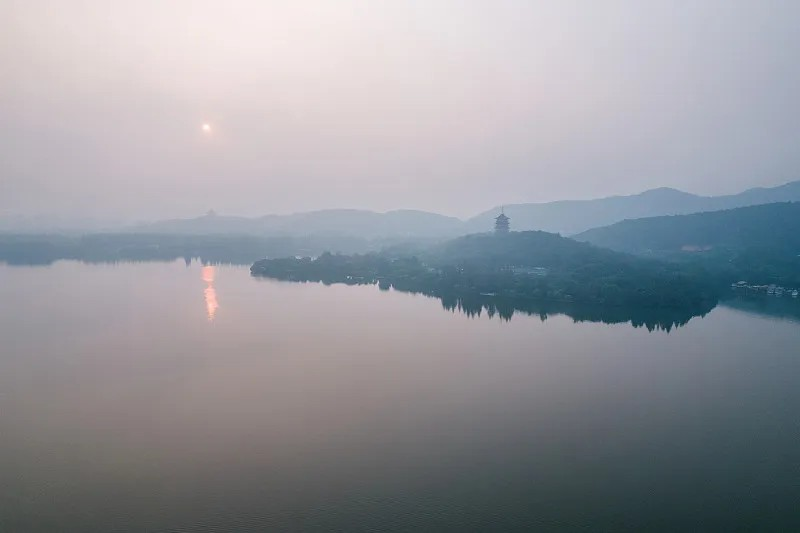Leifeng: (494, 206, 510, 241)
